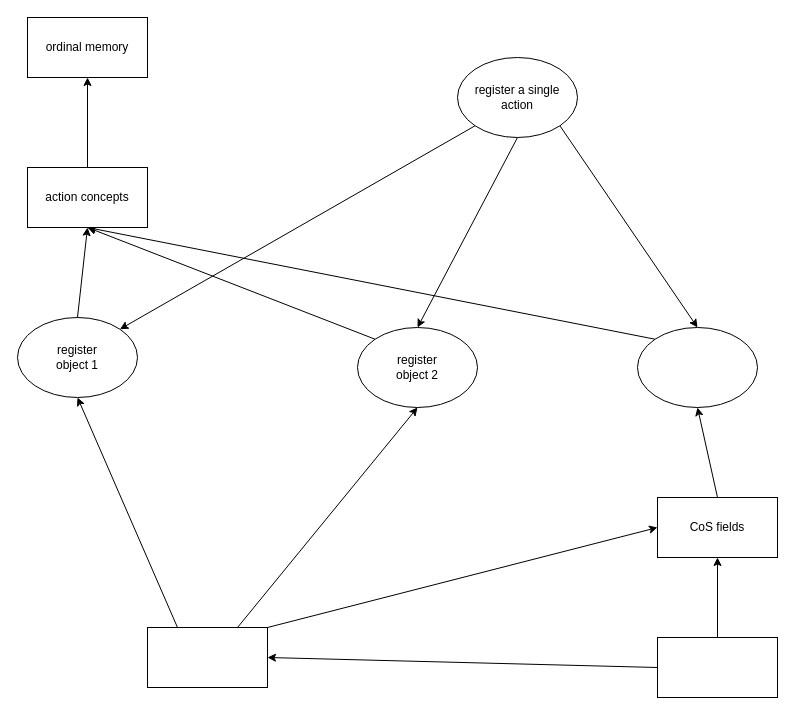
Some shapes in this 795 by 715 pixel diagram are drawn without their labels. The centre of each missing label's shape, as x and y in pixels:
"scene representation" goes at point 207,657.
"test match (CoS)" goes at point 697,367.
"transient detector" goes at point 717,667.
